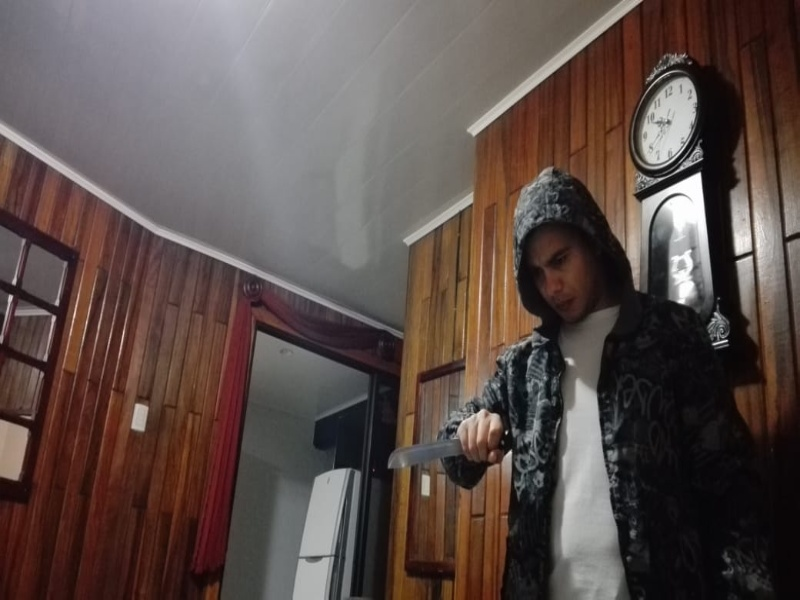bonnet: (513, 165, 633, 317)
hand: (455, 407, 507, 465)
knife: (387, 439, 458, 467)
person: (436, 166, 781, 600)
